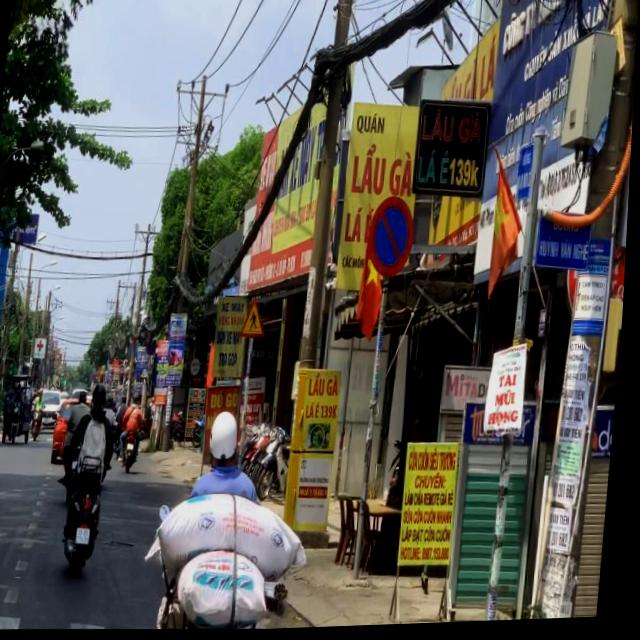Cam do xe: (368, 198, 419, 282)
Nguoi di bo cat ngang: (242, 299, 270, 340)
